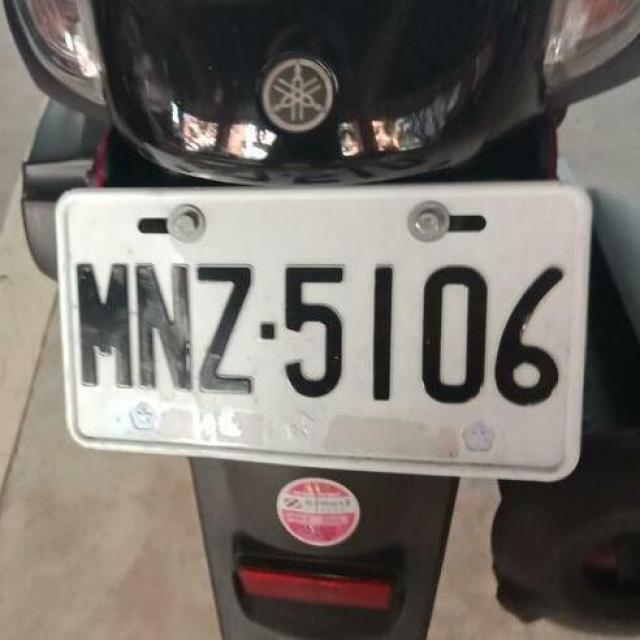W: (52, 181, 593, 486)
